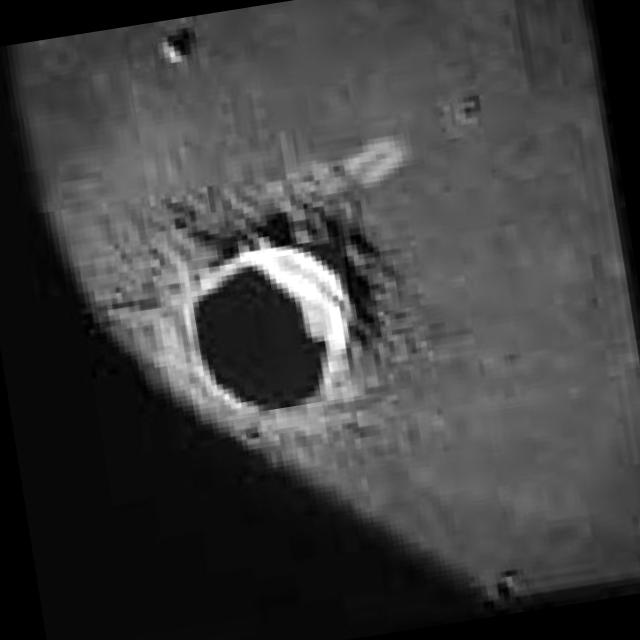crater: (177, 236, 367, 424)
